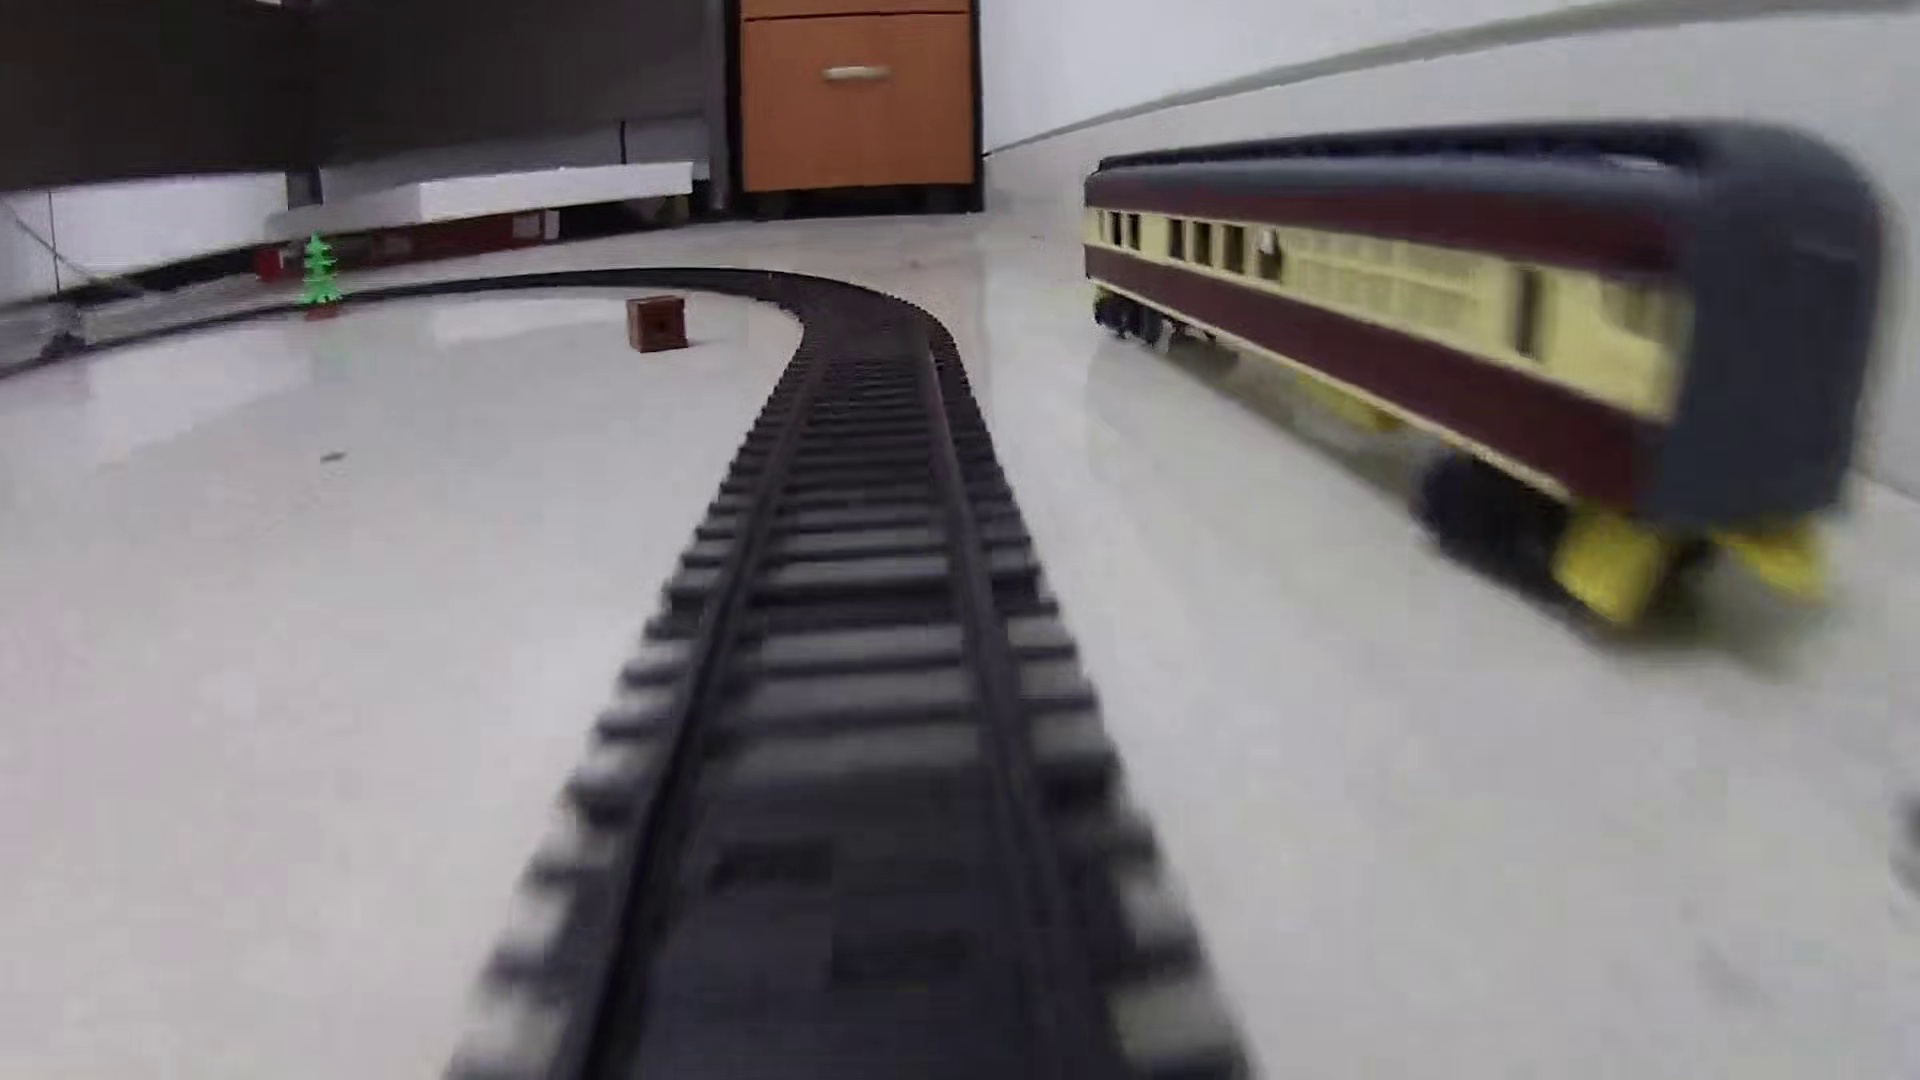box: (622, 292, 694, 357)
tree: (294, 229, 347, 320)
